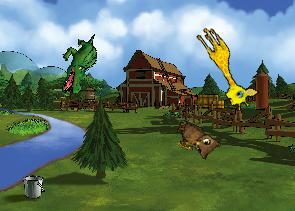crocodile: (61, 34, 97, 94)
giraffe: (185, 23, 262, 114)
owl: (169, 118, 223, 163)
